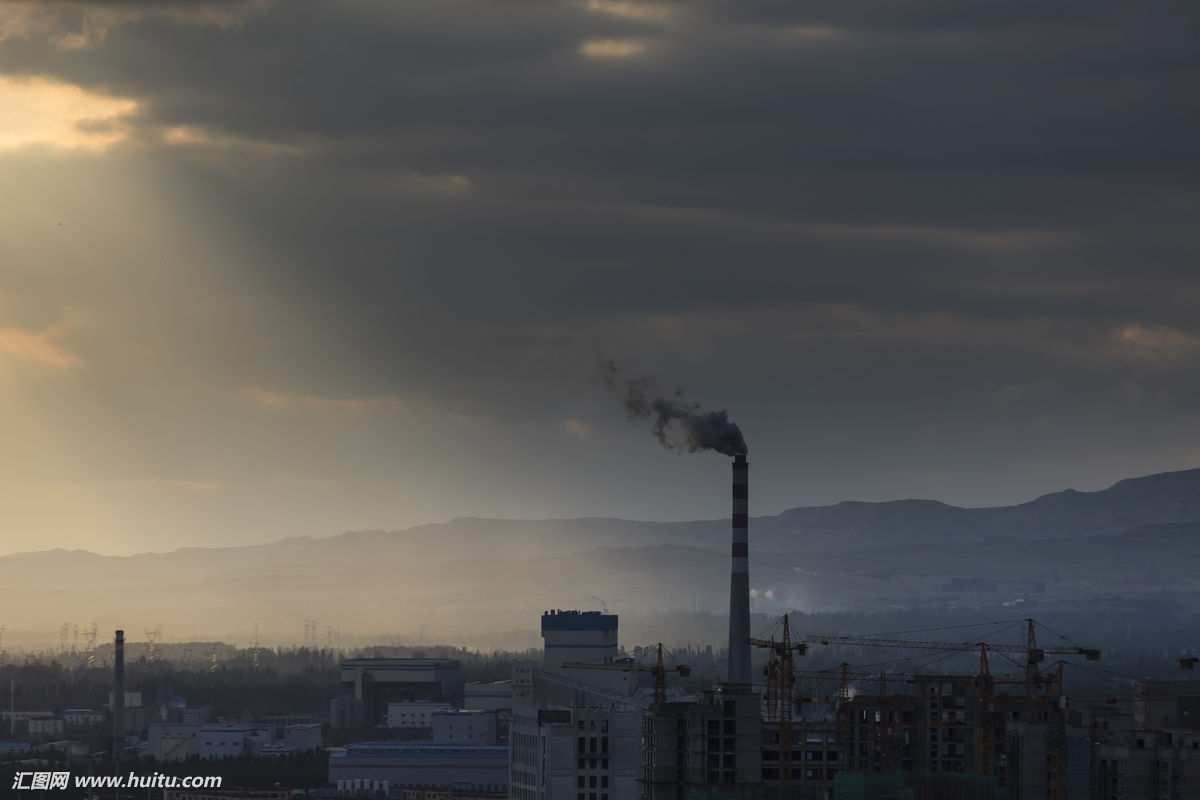dust: (573, 362, 757, 469)
